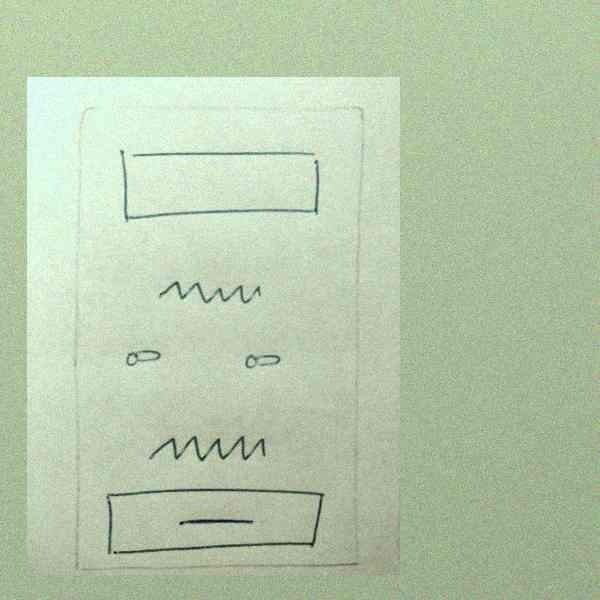button: (95, 484, 333, 555)
switch: (234, 341, 301, 375), (113, 338, 174, 375)
text: (135, 425, 281, 466), (147, 270, 271, 309)
text_input: (109, 140, 340, 227)
